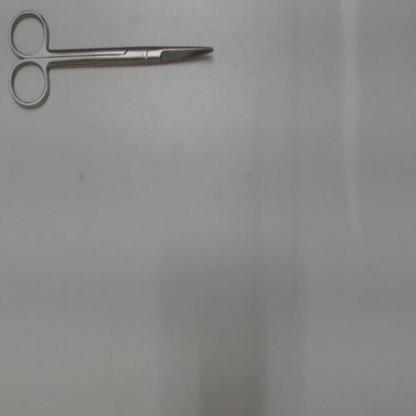Curved Mayo Scissors: (4, 8, 222, 117)
